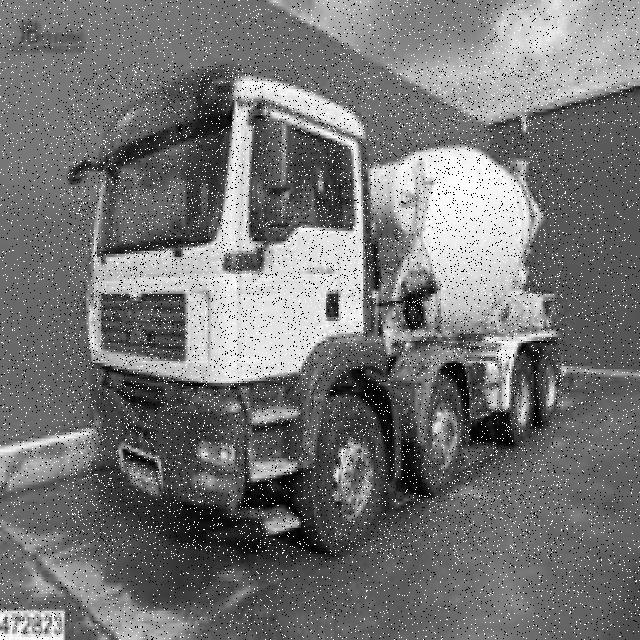Concrete Mixer: (68, 65, 564, 559)
